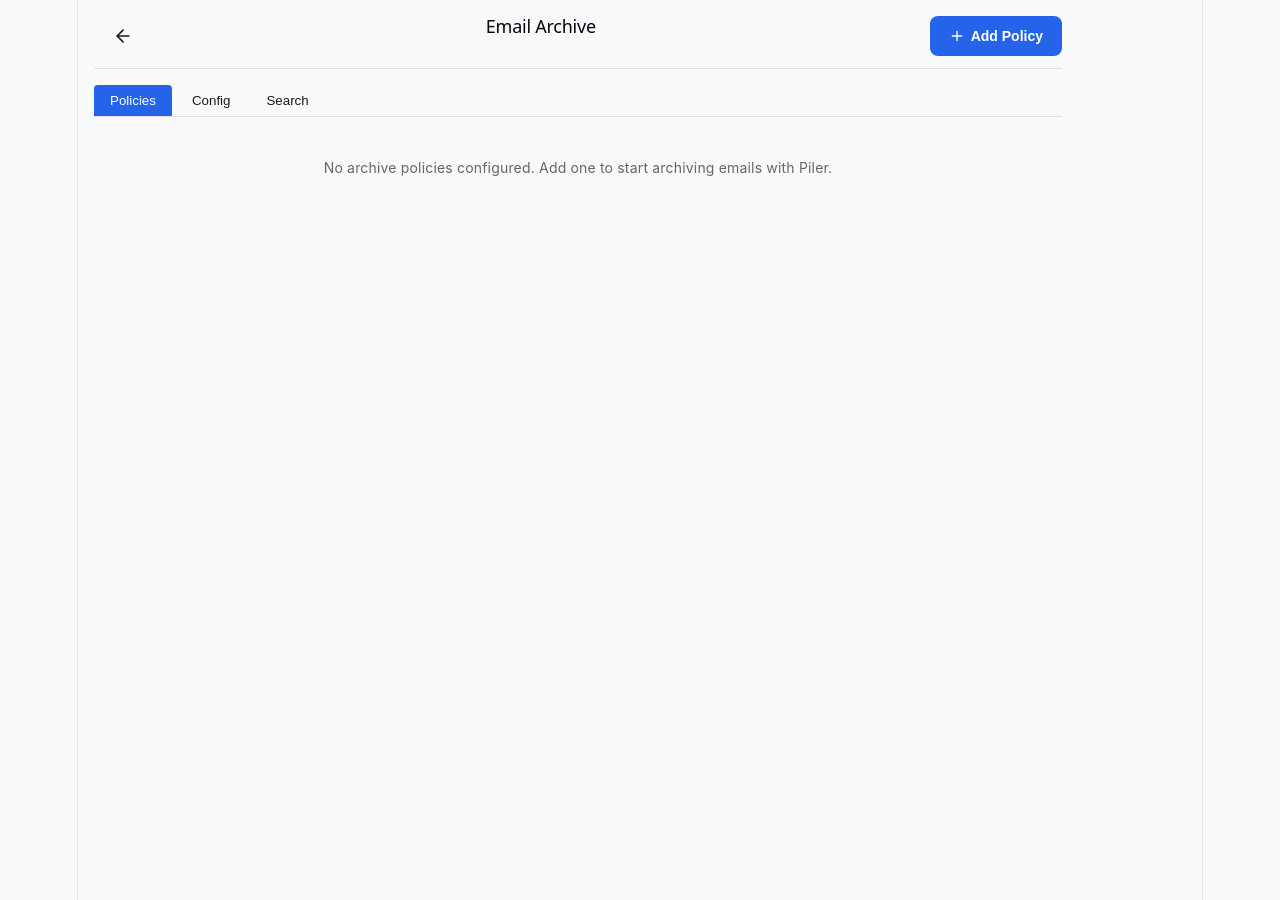
it: ArchiveManager › switches to search tab and shows search form
This screenshot has width=1280, height=900.
Expected: the heading "Email Archive" is shown, left=486, top=14, right=596, bottom=38
Step 1. Click the button "Search" → (288, 100), box left=250, top=85, right=325, bottom=116
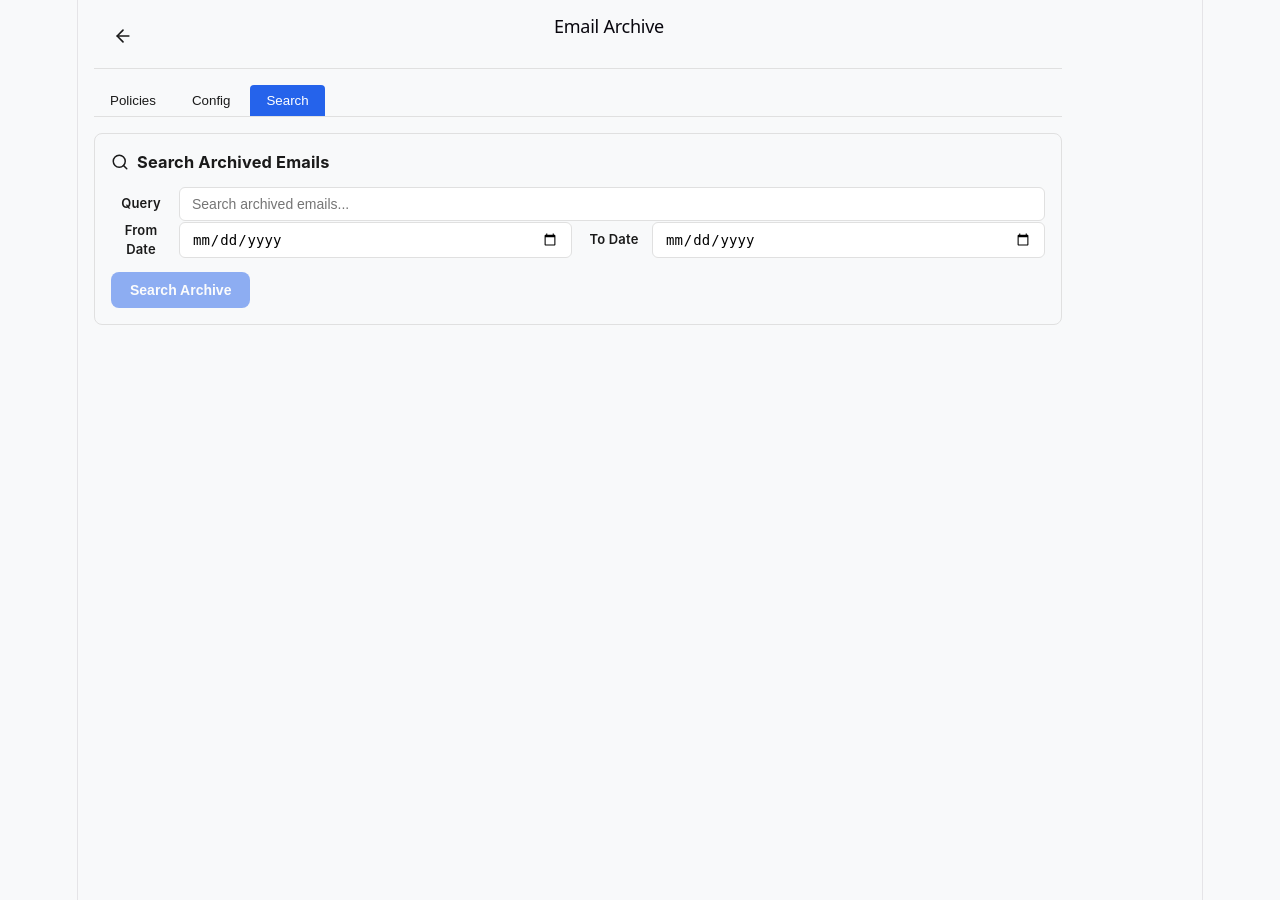
Now the element with test id "archive-search-panel" is shown, box left=94, top=133, right=1062, bottom=325
Now the field with placeholder "Search archived emails..." is shown, box left=179, top=187, right=1045, bottom=221
Now the button "Search Archive" is shown, box left=111, top=272, right=250, bottom=308
